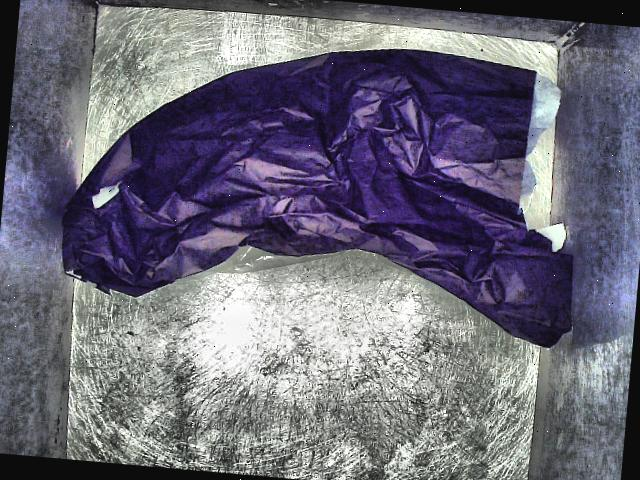Paper: (50, 14, 602, 355)
